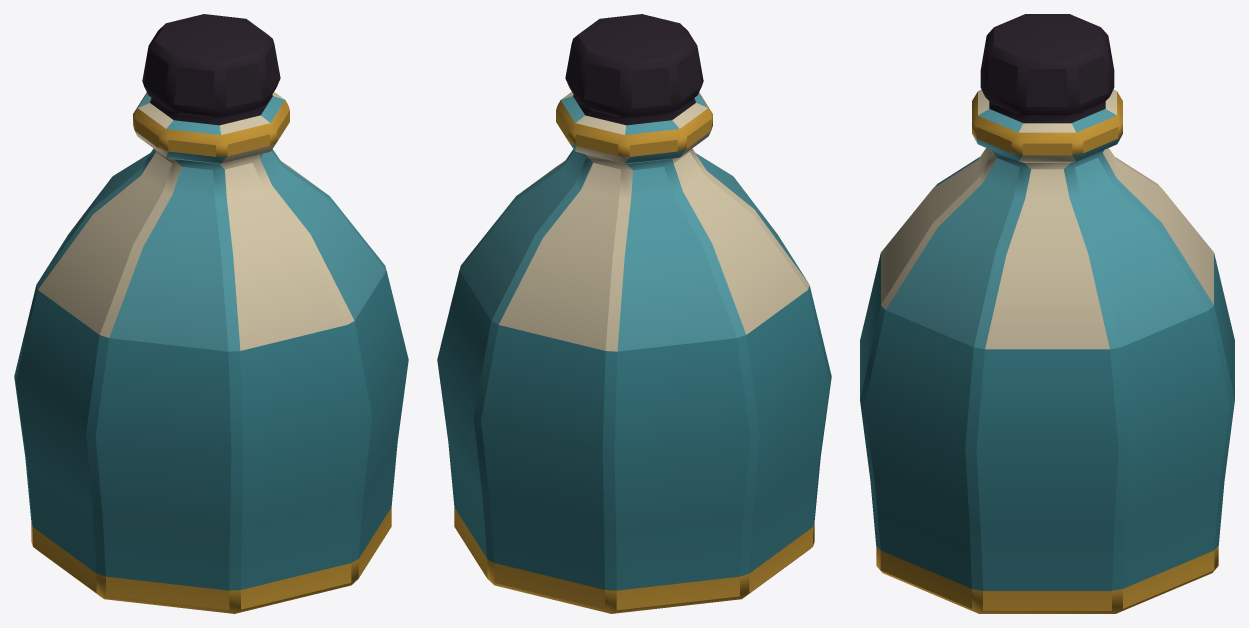
Rendered from Bottle_05.glb.
3 views of the same model, side by side, from view 1: azimuth 30°, elevation 25°; view 2: azimuth 150°, elevation 25°; view 3: azimuth 270°, elevation 25° (orthographic).
Visible parts, largest first — view 1: Bottle_05; view 2: Bottle_05; view 3: Bottle_05.
Part boxes in pixels (x1,y1,x2,y2): Bottle_05: (14, 14, 408, 613); Bottle_05: (437, 14, 831, 613); Bottle_05: (860, 14, 1234, 613).
Size of the model in its own units: 1.45 by 2.2 by 1.45.
